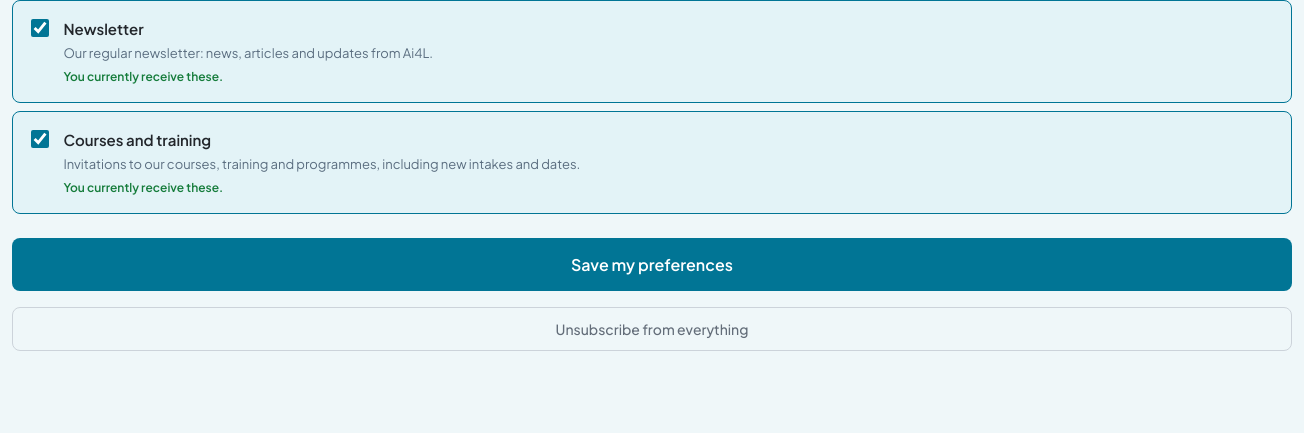
PreferencesForm › reports a failure instead of claiming the change was saved
The width and height of the screenshot is (1304, 433).
Click the button with test id "save-preferences".
click(652, 265)  # box [12, 238, 1292, 291]
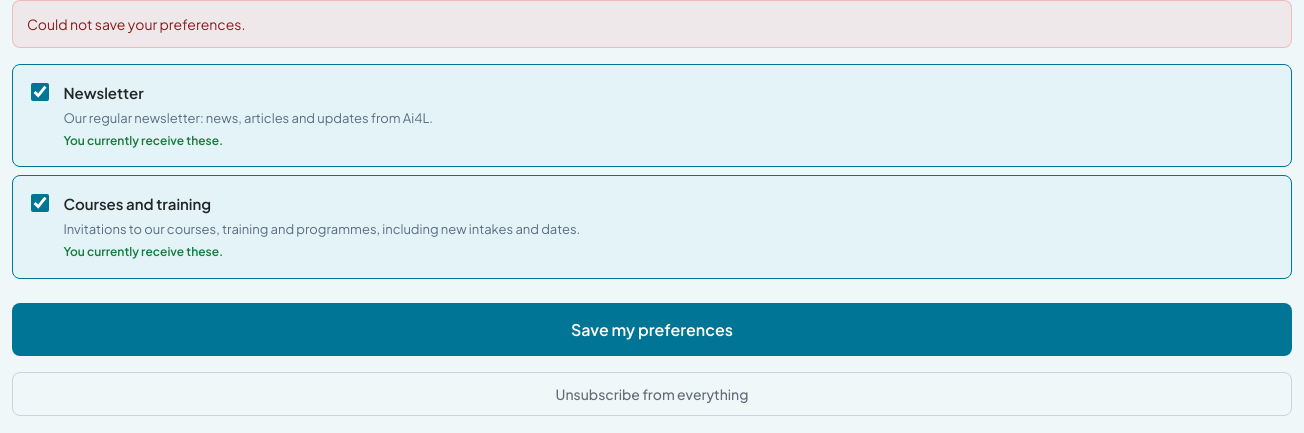
Now the message shows "Could not save", box [27, 15, 245, 33]
